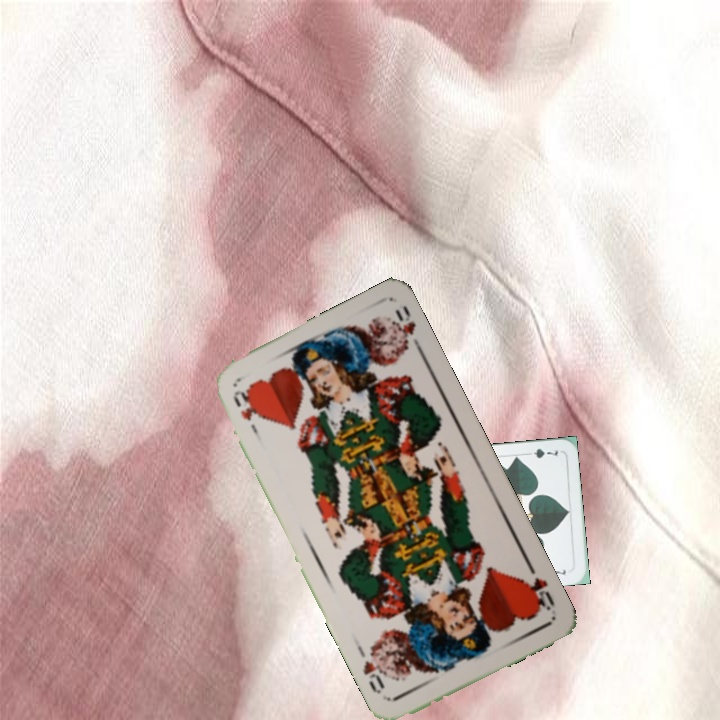G7: (521, 444, 561, 461)
HO: (521, 560, 558, 614), (228, 386, 262, 440)
